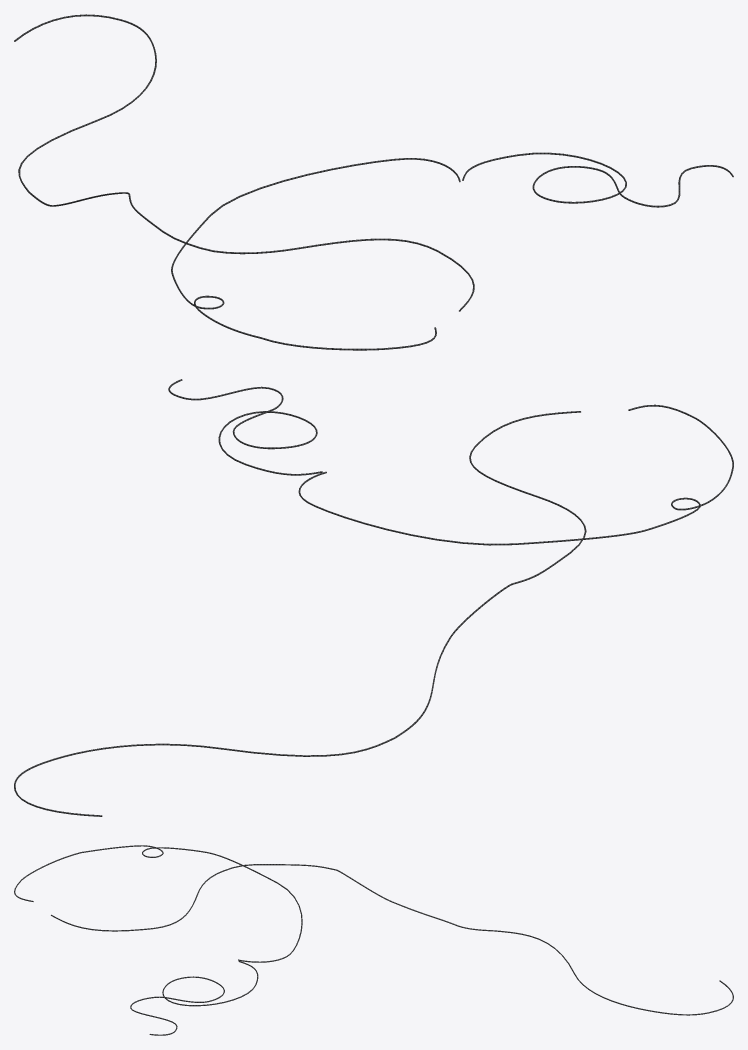
Rendered from bomb_wires_unique01.FBX.
The picture shows the model from 3 angles, top to bottom: view 1: azimuth 30°, elevation 25°; view 2: azimuth 150°, elevation 25°; view 3: azimuth 270°, elevation 25°; orthographic projection. The views are drawn at different scales.
Parts seen in each view (by area): view 1: bomb_wires_unique01; view 2: bomb_wires_unique01; view 3: bomb_wires_unique01.
Part boxes in pixels (x1,y1,x2,y2): bomb_wires_unique01: (14, 14, 733, 350); bomb_wires_unique01: (14, 379, 733, 816); bomb_wires_unique01: (14, 845, 733, 1035).
Bounding box in the file's own units: 14.2 × 2.1 × 22.9.
